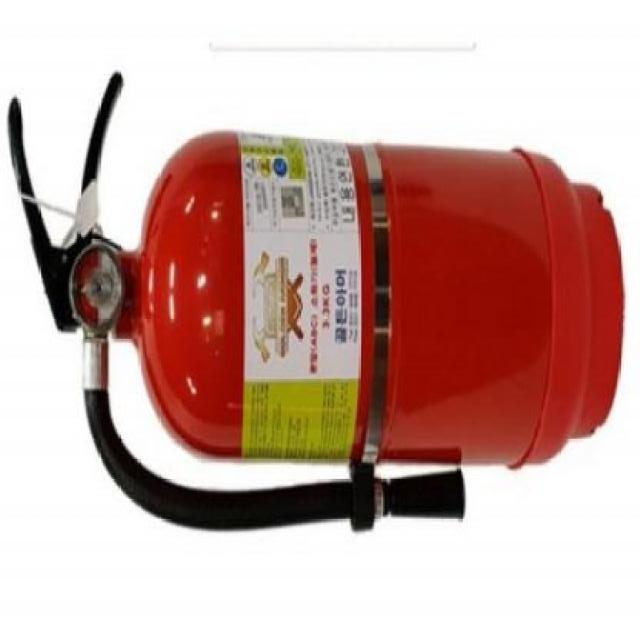fire extinguisher: (7, 70, 625, 533)
